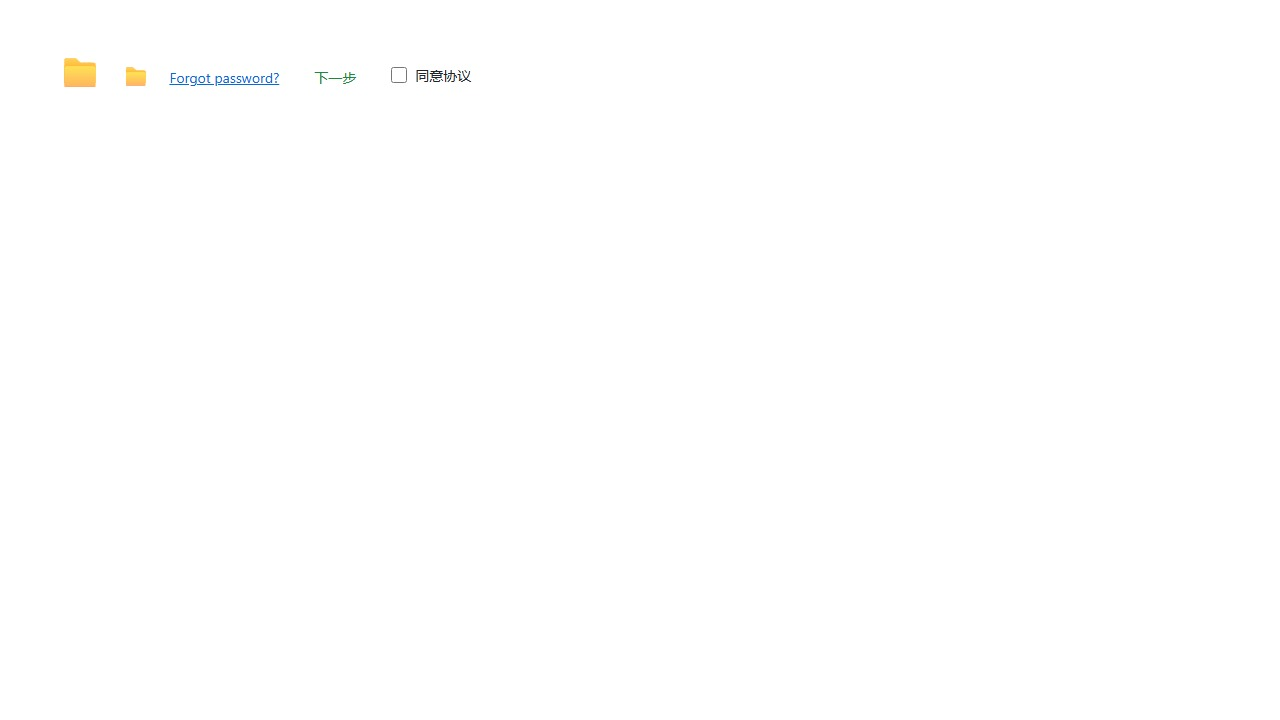button: (299, 63, 371, 93)
checkbox: (391, 67, 407, 83)
icon: (58, 54, 102, 86), (415, 66, 471, 85), (122, 65, 149, 85)
link: (169, 68, 279, 87)
radio: (391, 66, 471, 85)
